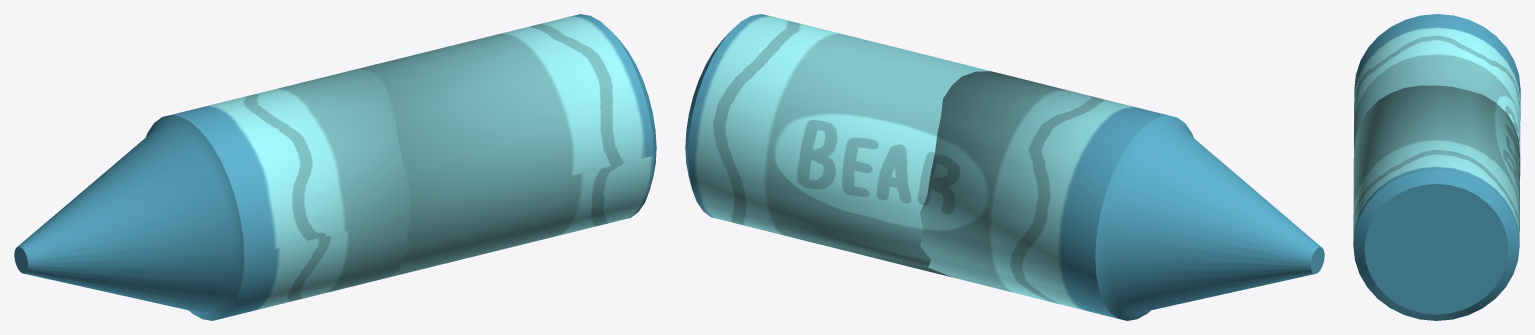
Rendered from CrayonAnimation.fbx.
3 views of the same model, side by side, from view 1: azimuth 30°, elevation 25°; view 2: azimuth 150°, elevation 25°; view 3: azimuth 270°, elevation 25° (orthographic). The views are drawn at different scales.
Parts seen in each view (by area): view 1: Crayon.001, Crayon; view 2: Crayon.001, Crayon; view 3: Crayon, Crayon.001.
Boxes of the visible parts, x1,y1,x2,y2 form: Crayon.001: (14, 69, 411, 320); Crayon: (356, 14, 656, 277); Crayon.001: (920, 71, 1324, 320); Crayon: (685, 14, 990, 277); Crayon: (1353, 85, 1520, 320); Crayon.001: (1354, 14, 1520, 154).
Bounding box in the file's own units: 915 × 286 × 286.
